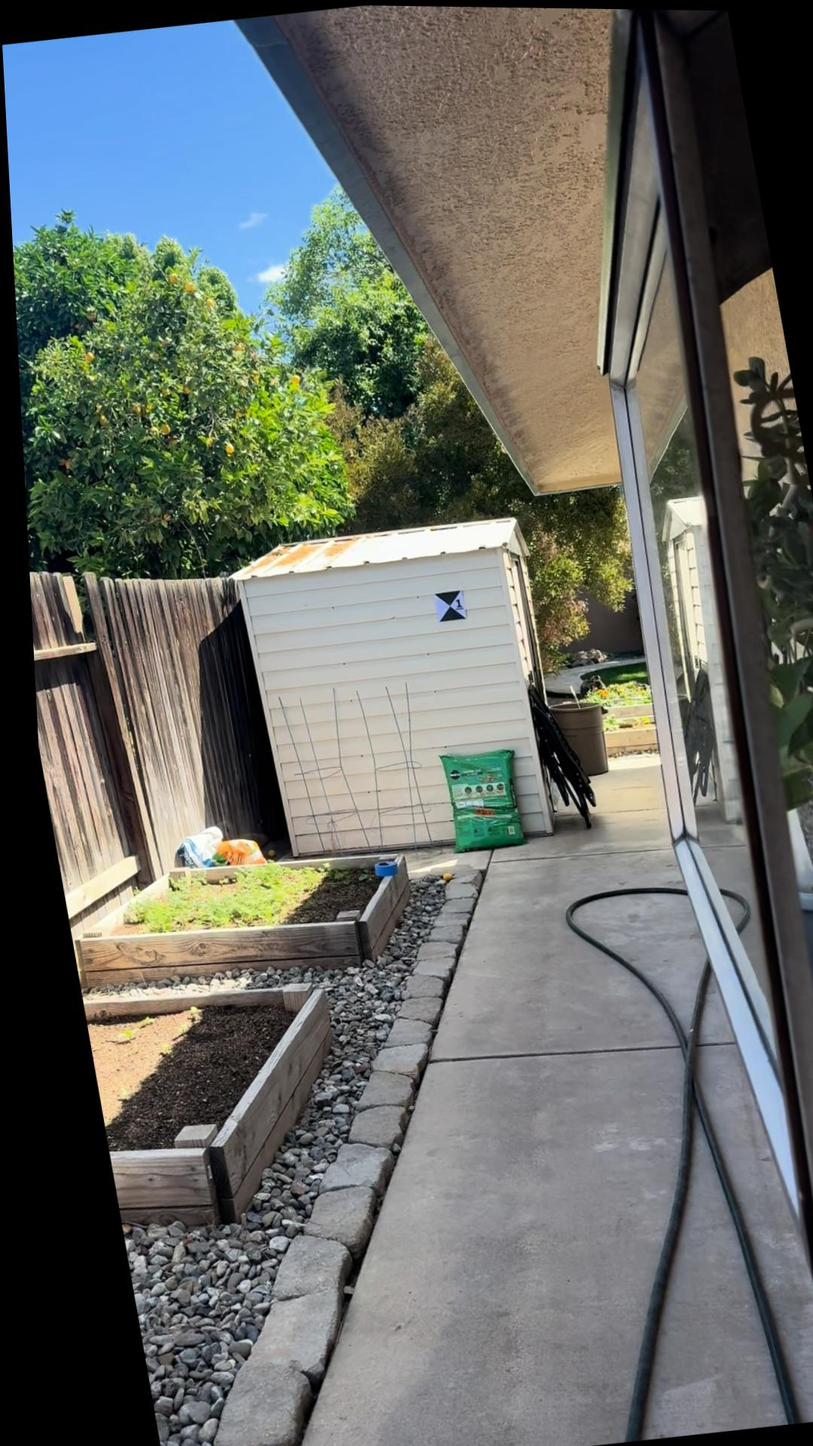target1: (431, 585, 467, 623)
